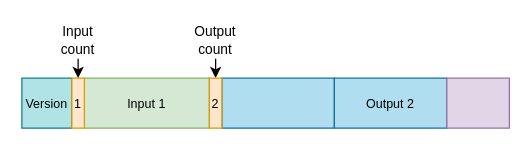
Some shapes in this 531 by 150 pixel diagram are drawn without their labels. Here are the shapes that lost their labels. From the top down, the centre of each, then its label:
pixel 277 102: Output 1
pixel 477 102: Locktime
